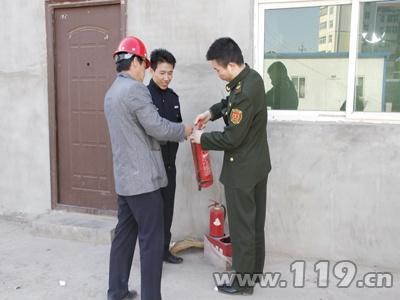NoHelmet: (206, 36, 246, 81), (150, 48, 177, 89)
NoVest: (102, 83, 165, 190), (219, 81, 273, 181)
